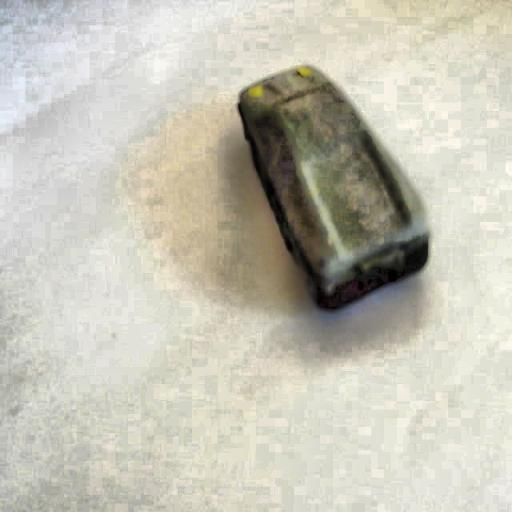normal_car: (232, 62, 432, 316)
